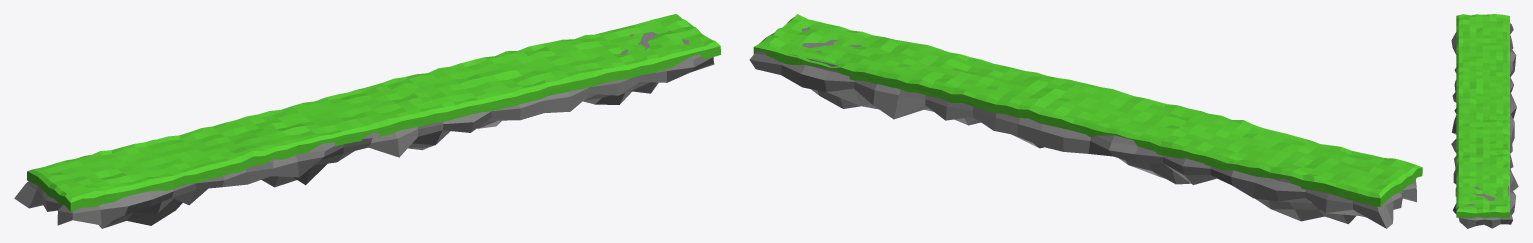
Rendered from Beachisland_Part_01.fbx.
The picture shows the model from 3 angles, left to right: view 1: azimuth 30°, elevation 25°; view 2: azimuth 150°, elevation 25°; view 3: azimuth 270°, elevation 25°; orthographic projection. The views are drawn at different scales.
Parts seen in each view (by area): view 1: Box049, Box048; view 2: Box049, Box048; view 3: Box049, Box048.
Boxes of the visible parts, x1,y1,x2,y2 form: Box049: (27, 14, 720, 211); Box048: (14, 30, 714, 228); Box049: (753, 14, 1422, 206); Box048: (749, 26, 1416, 228); Box049: (1456, 14, 1509, 218); Box048: (1451, 23, 1518, 228).
Bounding box in the file's own units: 540 × 55.17 × 77.34.
